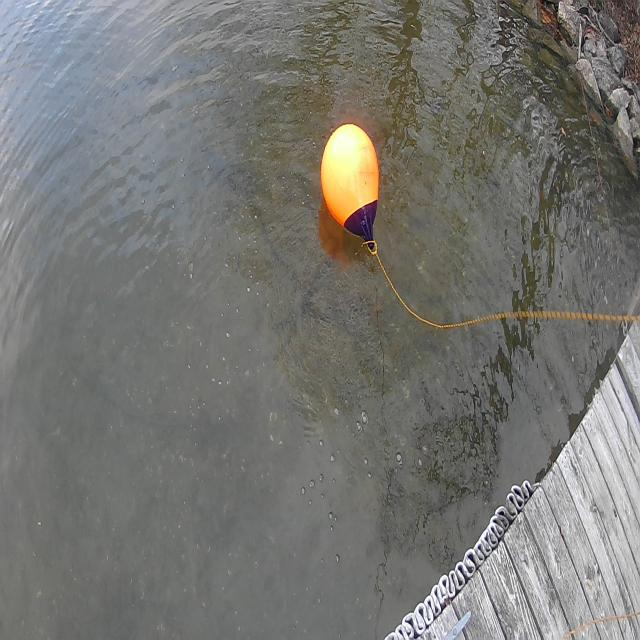Buoy: (318, 105, 388, 266)
